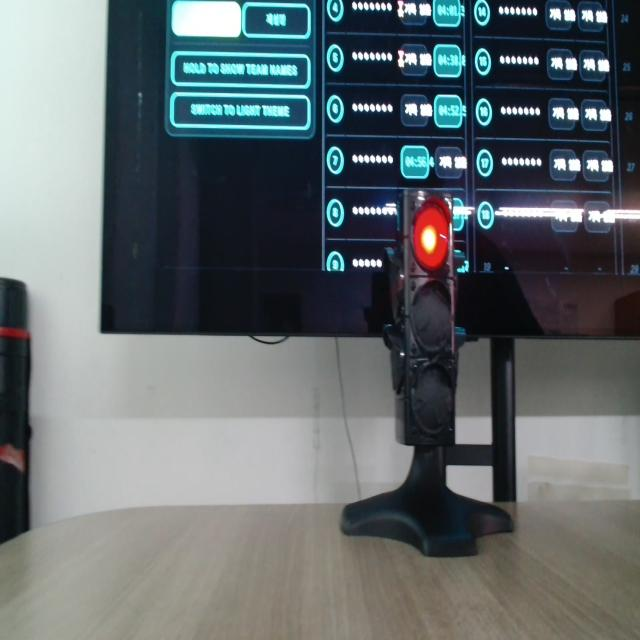red_light: (413, 200, 449, 270)
